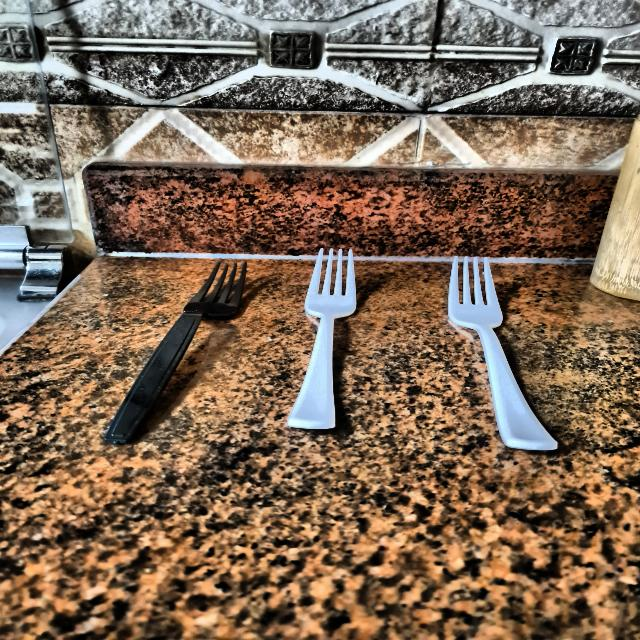plastic utensil: (110, 257, 248, 434), (441, 256, 557, 453), (278, 242, 367, 430)
